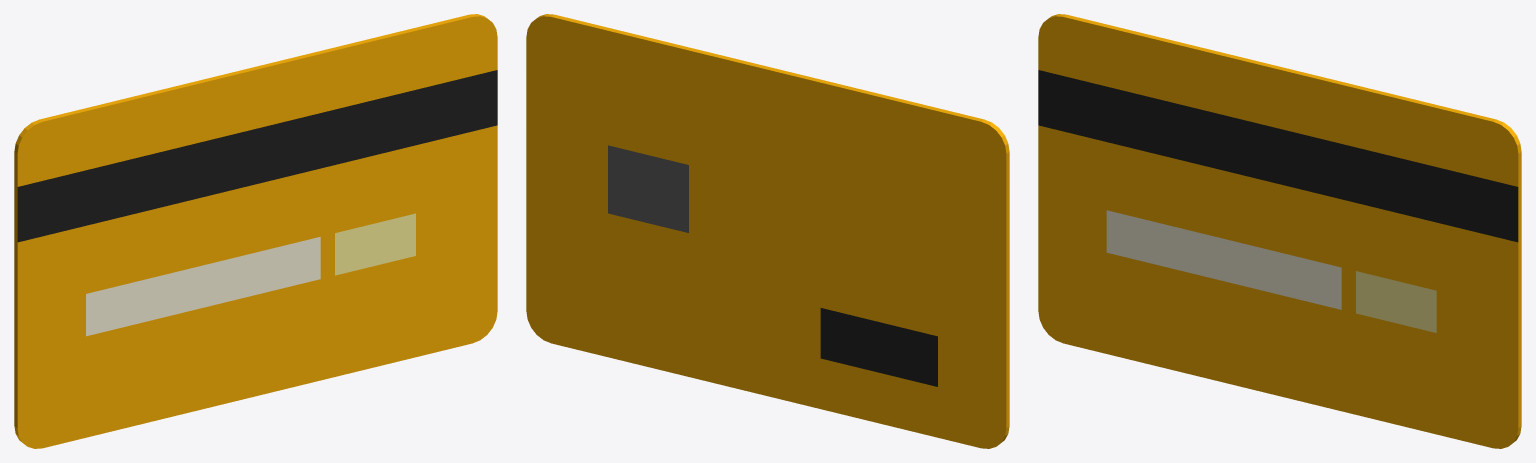
Rendered from credit_card.glb.
3 renders of one model, left to right at view 1: azimuth 30°, elevation 25°; view 2: azimuth 150°, elevation 25°; view 3: azimuth 330°, elevation 25°, orthographic.
Parts seen in each view (by area): view 1: Plane.331; view 2: Plane.331; view 3: Plane.331.
Part boxes in pixels (x1=…): Plane.331: x1=14, y1=14, x2=497, y2=448; Plane.331: x1=526, y1=14, x2=1009, y2=448; Plane.331: x1=1038, y1=14, x2=1521, y2=448.
Size of the model in its own units: 2.23 by 1.45 by 0.0257.
1 material, 1 textured.
